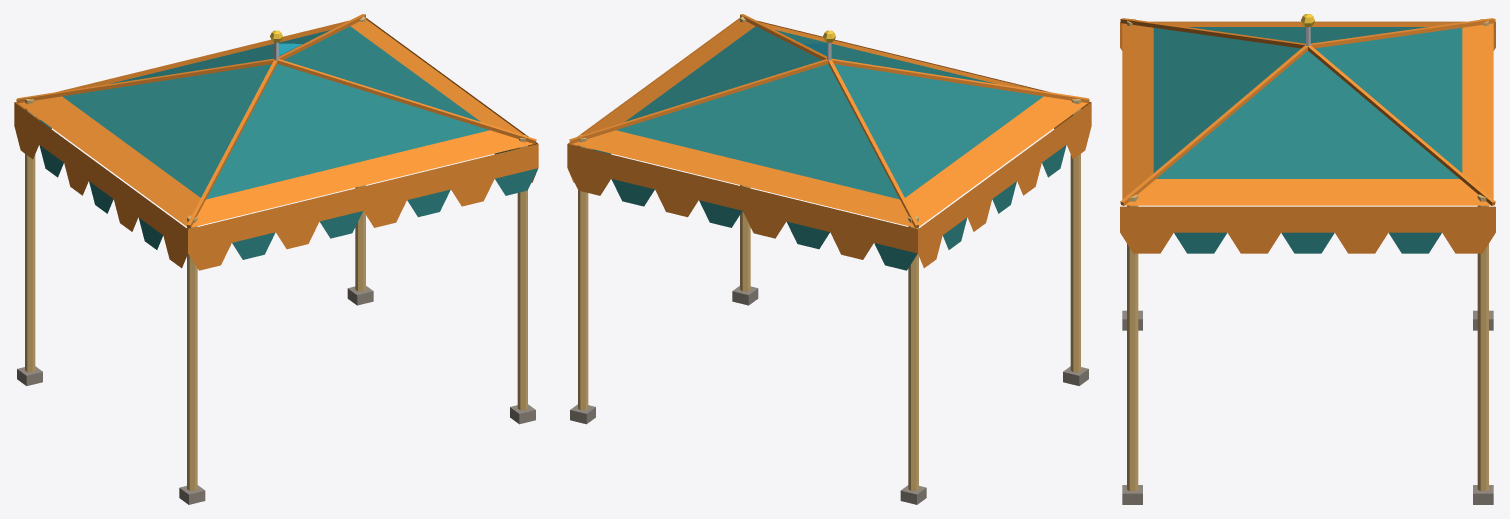
Rendered from canopy_teal.glb.
3 renders of one model, left to right at view 1: azimuth 30°, elevation 25°; view 2: azimuth 150°, elevation 25°; view 3: azimuth 270°, elevation 25°, orthographic. The views are drawn at different scales.
Parts seen in each view (by area): view 1: canopy_teal; view 2: canopy_teal; view 3: canopy_teal.
Part boxes in pixels (x1=…): canopy_teal: x1=14, y1=14, x2=538, y2=504; canopy_teal: x1=567, y1=14, x2=1091, y2=504; canopy_teal: x1=1120, y1=14, x2=1495, y2=504.
Bounding box in the file's own units: 4.24 × 4.27 × 3.64.
1 material, 1 textured.
